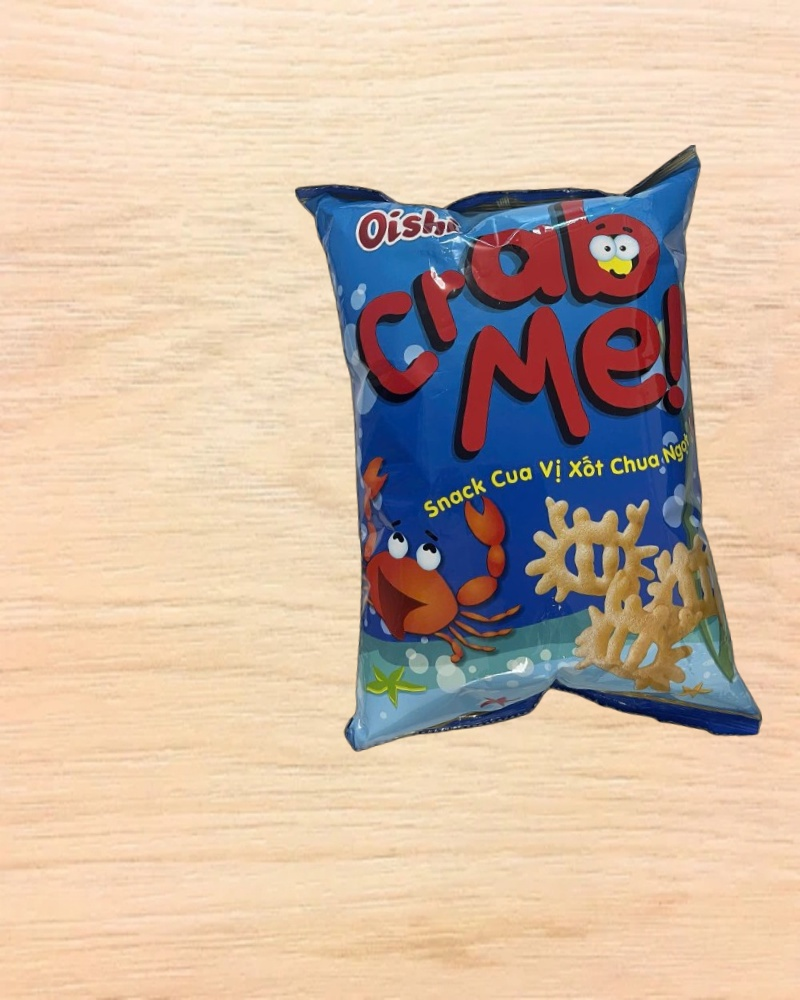Snack chay: (295, 144, 764, 772)
